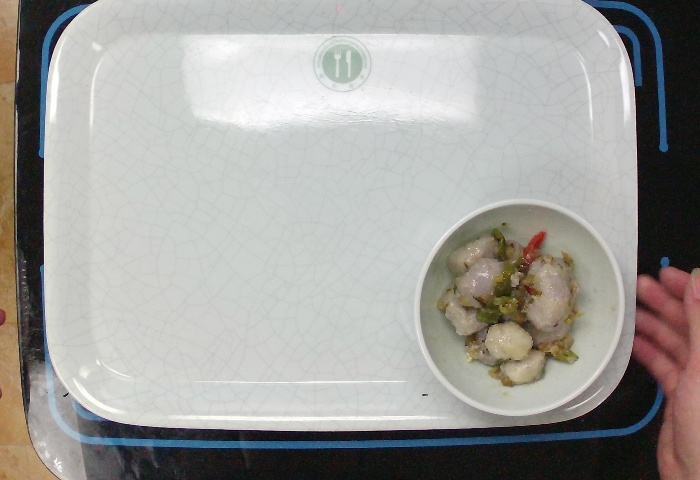JYsf-Fan_Wan: (408, 195, 630, 421)
